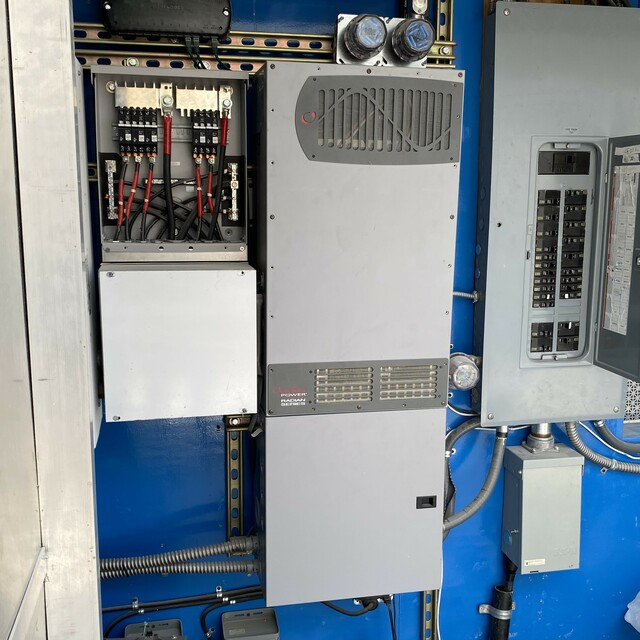inverter: (244, 54, 467, 622)
